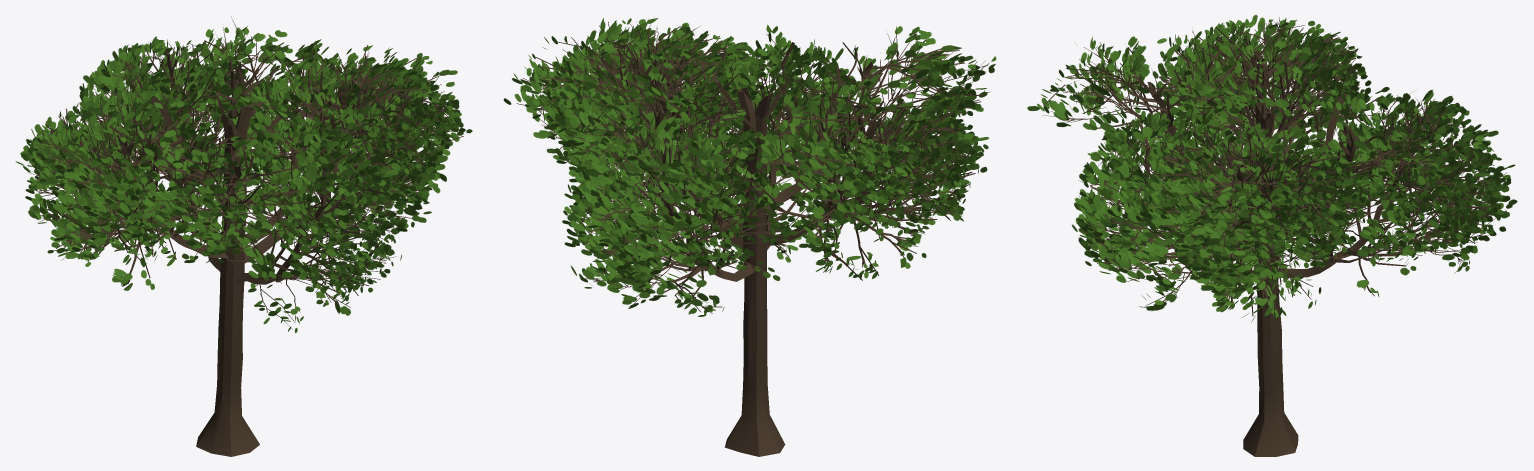
The picture shows the model from 3 angles, left to right: view 1: azimuth 30°, elevation 25°; view 2: azimuth 150°, elevation 25°; view 3: azimuth 270°, elevation 25°; orthographic projection. The views are drawn at different scales.
Visible parts, largest first — view 1: oak 01.001_trunk_Mat.001_0.169; view 2: oak 01.001_trunk_Mat.001_0.169; view 3: oak 01.001_trunk_Mat.001_0.169.
Part boxes in pixels (x1,y1,x2,y2): oak 01.001_trunk_Mat.001_0.169: [15, 16, 472, 456]; oak 01.001_trunk_Mat.001_0.169: [503, 18, 996, 456]; oak 01.001_trunk_Mat.001_0.169: [1027, 14, 1517, 456].
Bounding box in the file's own units: 6.24 × 4.93 × 6.15.
2 materials, 1 textured.
